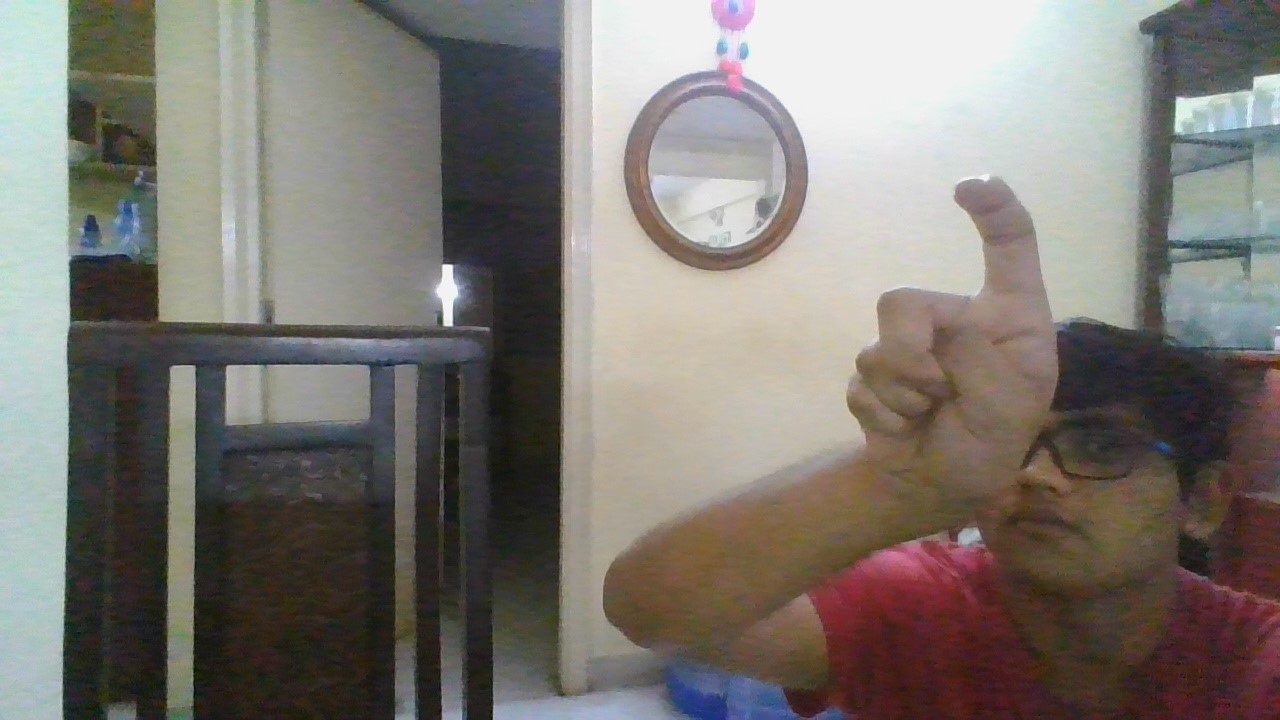x: (838, 164, 1065, 513)
